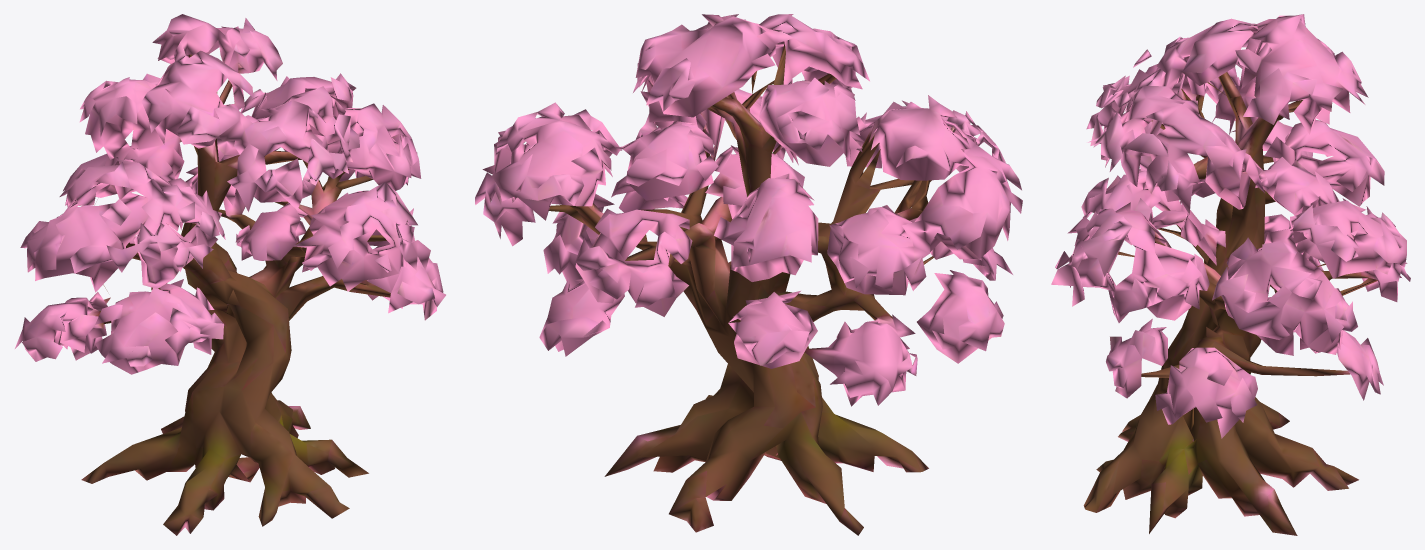
Rendered from blossom.glb.
3 renders of one model, left to right at view 1: azimuth 30°, elevation 25°; view 2: azimuth 150°, elevation 25°; view 3: azimuth 270°, elevation 25°, orthographic. The views are drawn at different scales.
Visible parts, largest first — view 1: tripo_node_f57e10e2-f5c9-4013-afbc-7383a701f6da; view 2: tripo_node_f57e10e2-f5c9-4013-afbc-7383a701f6da; view 3: tripo_node_f57e10e2-f5c9-4013-afbc-7383a701f6da.
Boxes of the visible parts, bbox=[...] form: tripo_node_f57e10e2-f5c9-4013-afbc-7383a701f6da: bbox=[15, 14, 445, 535]; tripo_node_f57e10e2-f5c9-4013-afbc-7383a701f6da: bbox=[475, 14, 1022, 535]; tripo_node_f57e10e2-f5c9-4013-afbc-7383a701f6da: bbox=[1051, 14, 1410, 535].
Bounding box in the file's own units: 1 × 0.9763 × 0.6831.
Materials: 1 (1 with a texture image).
